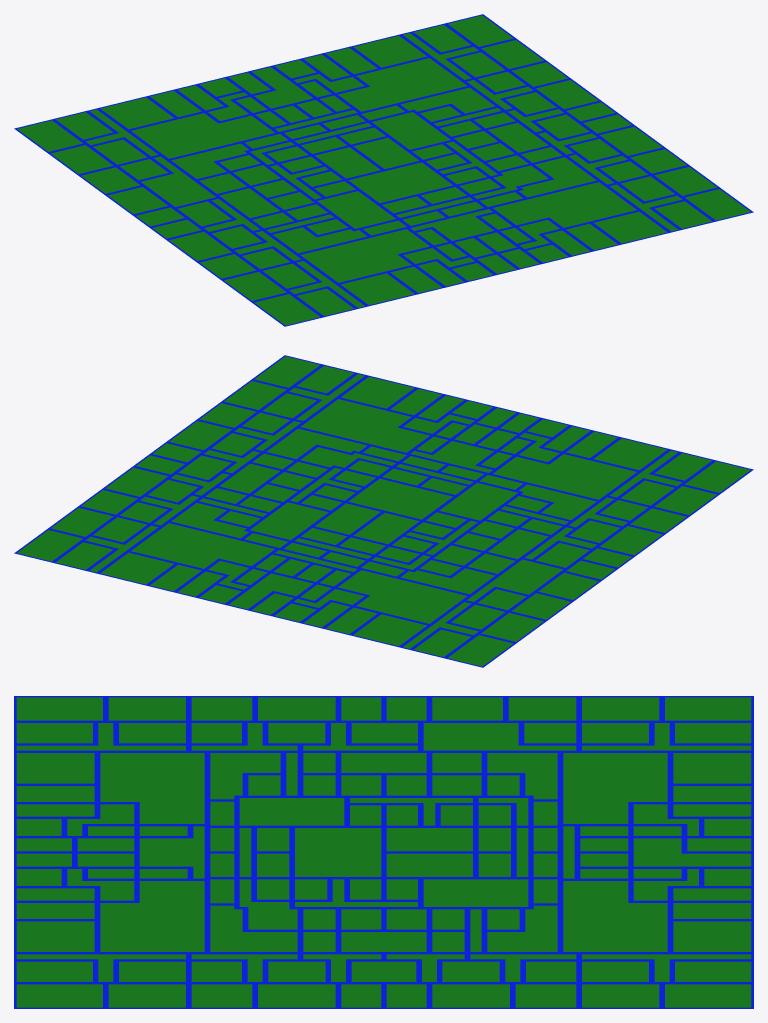
The model's file is test_level_01_zones.fbx.
3 views of the same model, one above another, from view 1: azimuth 30°, elevation 25°; view 2: azimuth 150°, elevation 25°; view 3: azimuth 270°, elevation 25° (orthographic). The views are drawn at different scales.
Visible parts, largest first — view 1: zones120, zones132, zones133, zones136, zones007, zones128, zones000, zones137, zones030, zones034, zones061, zones005 (+94 smaller); view 2: zones133, zones136, zones120, zones132, zones007, zones128, zones000, zones137, zones030, zones005, zones090, zones034 (+94 smaller); view 3: zones120, zones132, zones133, zones136, zones007, zones128, zones000, zones137, zones030, zones005, zones034, zones061 (+132 smaller).
Part boxes in pixels (x1,y1,x2,y2): zones120: [490, 181, 639, 228]; zones132: [128, 112, 277, 159]; zones133: [298, 228, 432, 283]; zones136: [335, 57, 469, 112]; zones007: [346, 161, 455, 204]; zones128: [138, 155, 218, 208]; zones000: [314, 190, 398, 229]; zones137: [369, 111, 453, 150]; zones030: [516, 156, 599, 198]; zones034: [591, 210, 670, 244]; zones061: [97, 96, 176, 130]; zones005: [338, 272, 417, 306]; zones133: [490, 453, 639, 500]; zones136: [128, 522, 277, 569]; zones120: [298, 398, 432, 453]; zones132: [335, 569, 469, 624]; zones007: [346, 477, 455, 520]; zones128: [464, 558, 565, 603]; zones000: [436, 481, 520, 521]; zones137: [247, 501, 331, 541]; zones030: [263, 427, 370, 460]; zones005: [591, 437, 670, 471]; zones090: [97, 551, 176, 585]; zones034: [338, 375, 417, 409]; zones120: [97, 880, 207, 953]; zones132: [560, 751, 670, 824]; zones133: [97, 751, 207, 824]; zones136: [560, 880, 670, 953]; zones007: [292, 826, 383, 878]; zones128: [421, 722, 578, 751]; zones000: [237, 797, 346, 826]; zones137: [421, 878, 530, 907]; zones030: [207, 904, 300, 953]; zones005: [14, 751, 97, 784]; zones034: [14, 920, 97, 953]; zones061: [670, 751, 753, 784].
Bounding box in the file's own units: 199 × 2.88e-15 × 199.
